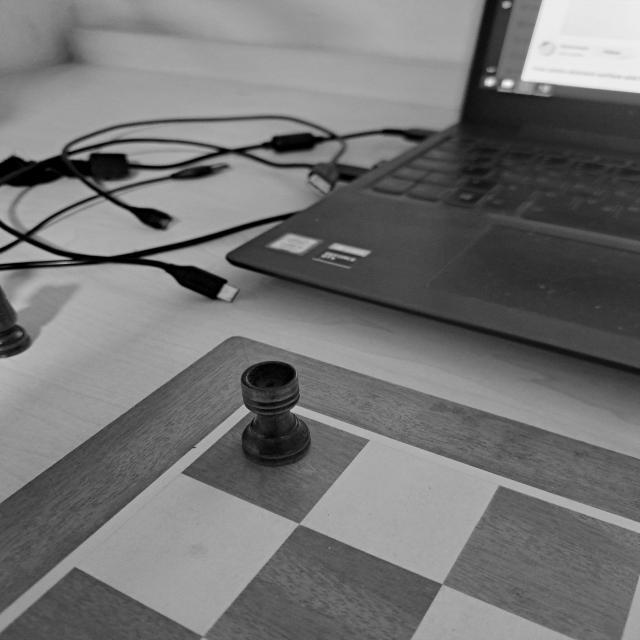chess-table-corners: (195, 377, 338, 439)
